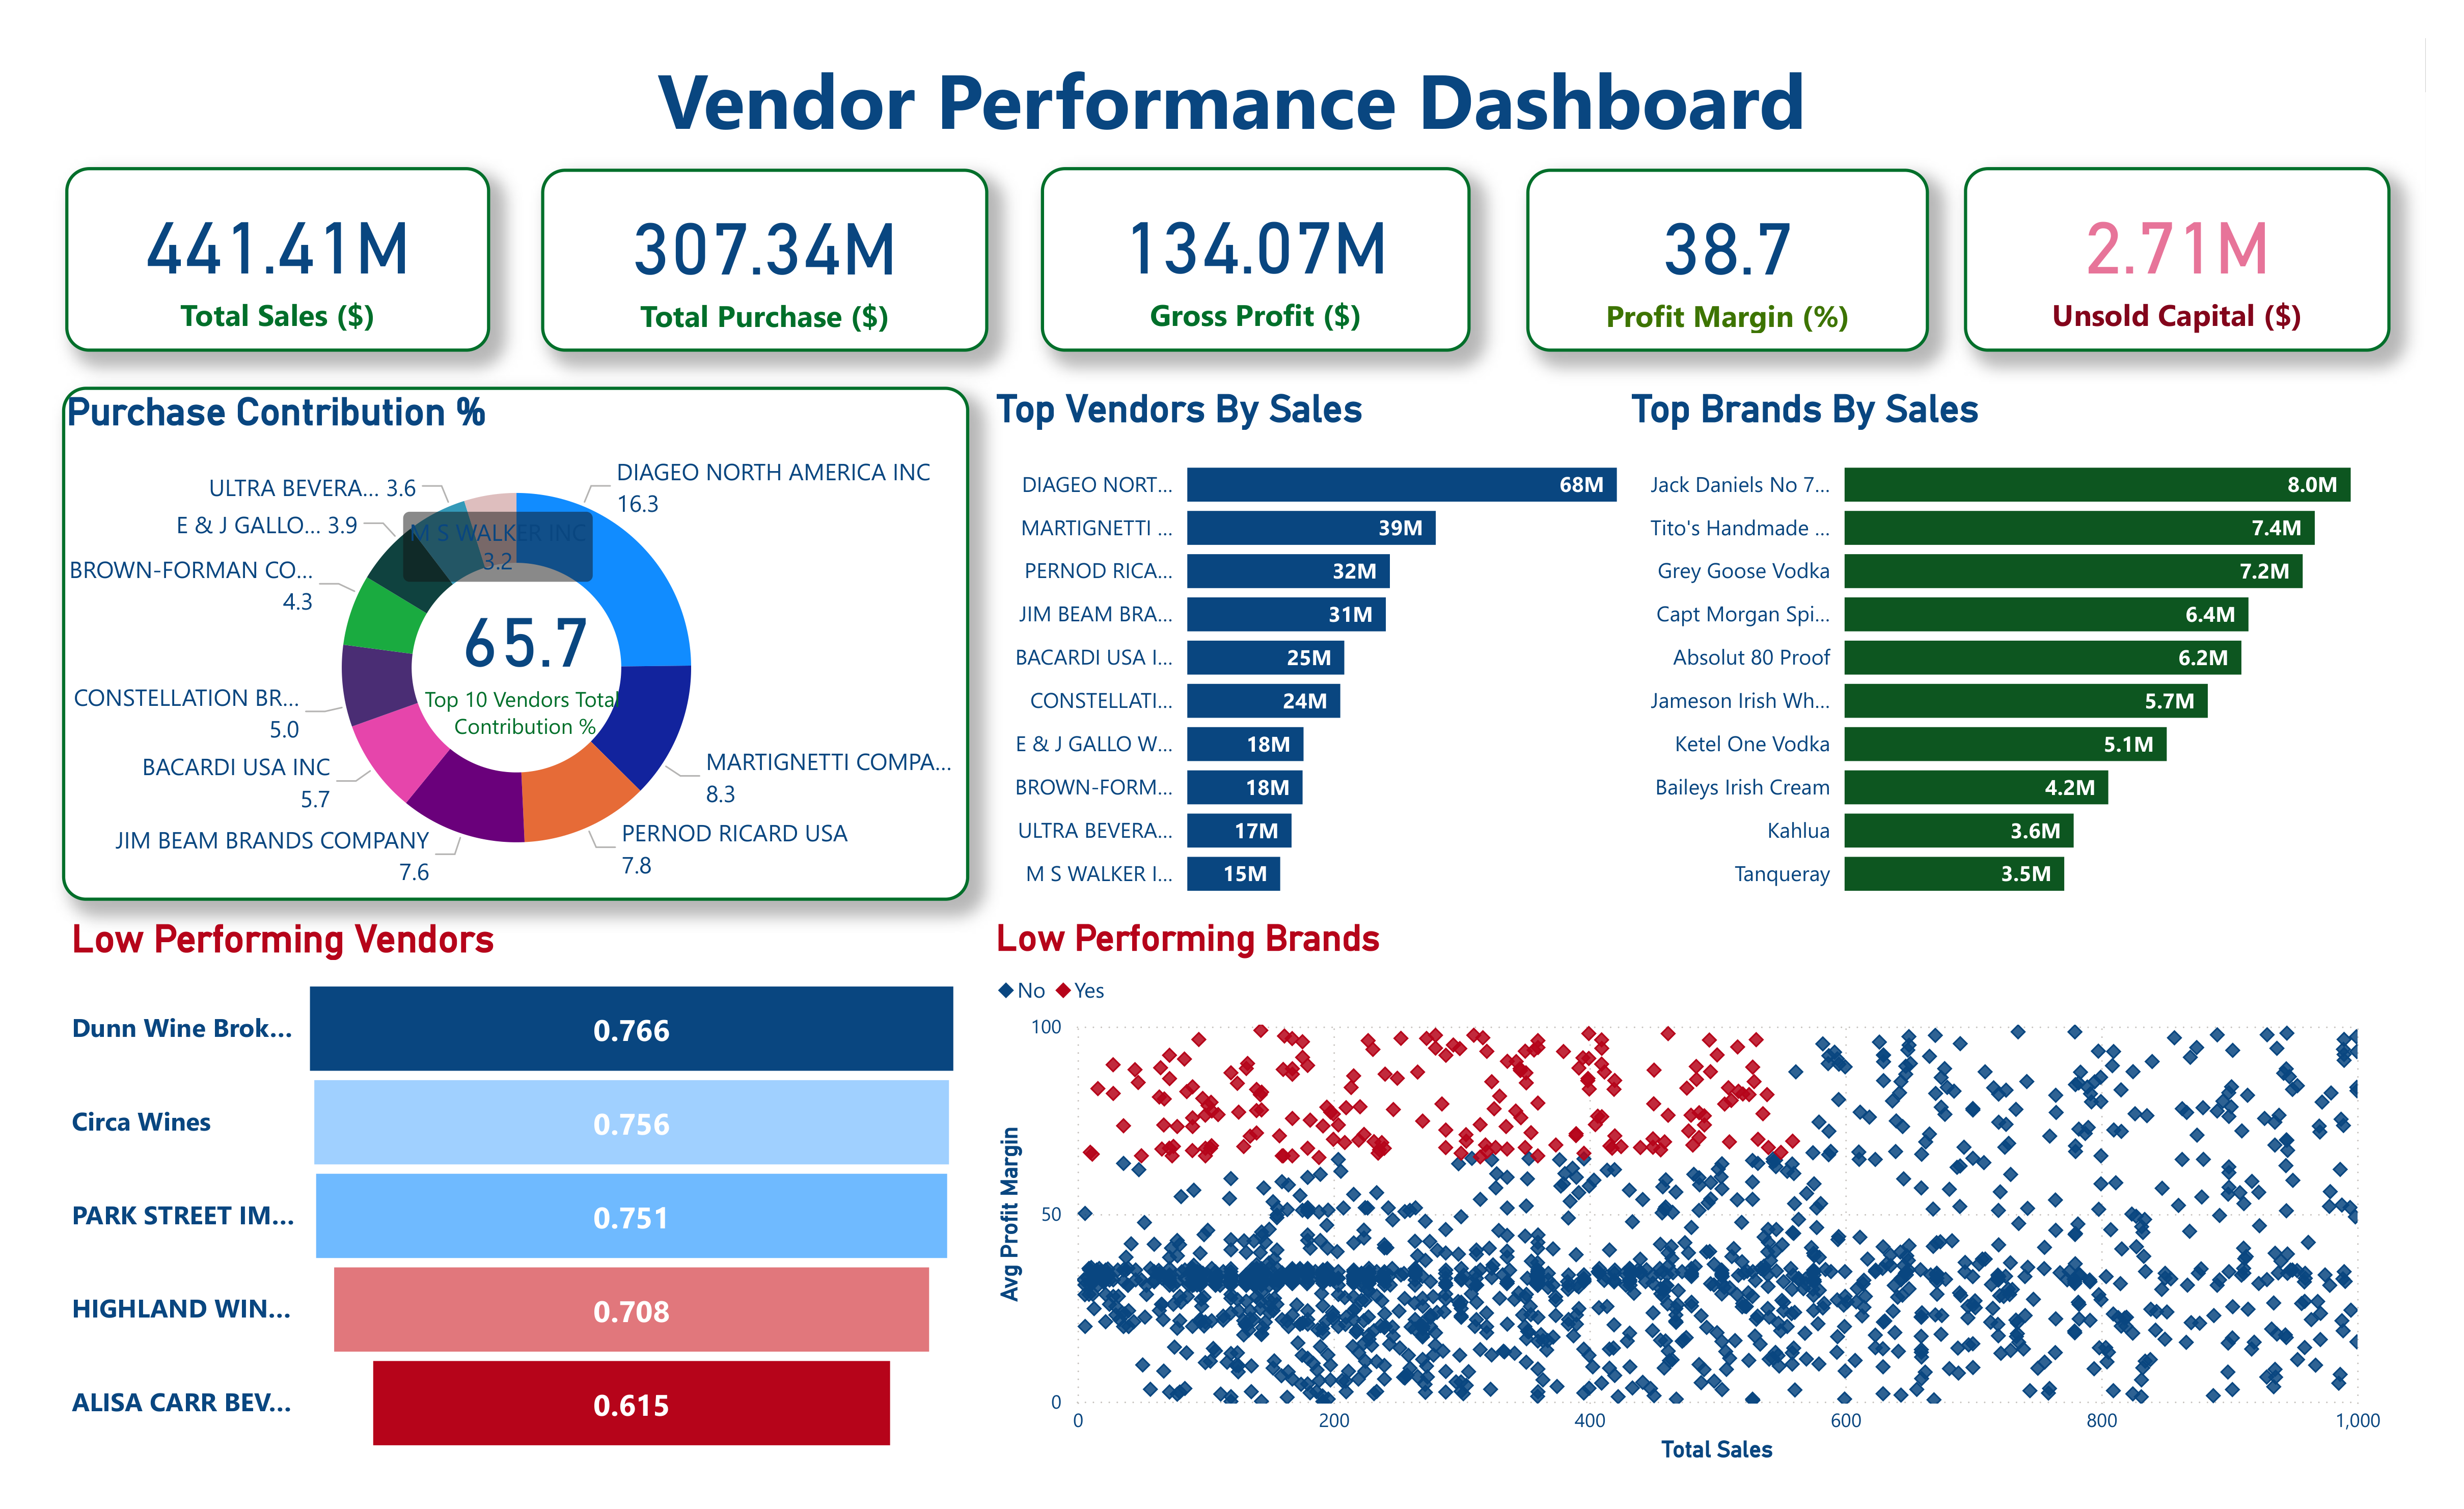

The dashboard page shown, as its layout file describes it:
{"tool":"powerbi","page":{"name":"Page 1","canvas":[1500,900],"ordinal":0},"visuals":[{"type":"card","fields":{"Values":["Sum(vendor_sales_summary.TotalPurchaseDollars)"]},"box":[315.8,82.4,280.9,114.6],"z":0},{"type":"card","fields":{"Values":["Sum(vendor_sales_summary.TotalSalesDollars)"]},"box":[16.8,81,266.9,116],"z":1000},{"type":"card","fields":{"Values":["Sum(vendor_sales_summary.GrossProfit)"]},"box":[630.2,81,269.7,116],"z":2000},{"type":"card","fields":{"Values":["Avg(vendor_sales_summary.ProfitMargin)"]},"box":[934.8,82.4,252.9,114.6],"z":3000},{"type":"card","fields":{"Values":["Sum(vendor_sales_summary.UnsoldCapital)"]},"box":[1210.1,81,268.3,116],"z":4000},{"type":"textbox","box":[0,0,1500,83],"z":5000},{"type":"donutChart","title":"Purchase Contribution % ","fields":{"Category":["PurchaseContribution.VendorName"],"Y":["Sum(PurchaseContribution.PurchaseContribution%)"]},"box":[14.5,219.4,571,322.6],"z":6000},{"type":"card","fields":{"Values":["Sum(PurchaseContribution.PurchaseContribution%)"]},"box":[211.8,266.7,188.2,233.3],"z":7000},{"type":"barChart","title":"Top Vendors By Sales","fields":{"Category":["vendor_sales_summary.VendorName"],"Y":["Sum(vendor_sales_summary.TotalSalesDollars)"]},"box":[597.3,219.2,447.9,332.9],"z":8000},{"type":"barChart","title":"Top Brands By Sales","fields":{"Category":["vendor_sales_summary.Description"],"Y":["Sum(vendor_sales_summary.TotalSalesDollars)"]},"box":[995.9,219.2,504.1,332.9],"z":9000},{"type":"funnel","title":"Low Performing Vendors","fields":{"Category":["LowTurnoverVendor.VendorName"],"Y":["Avg(LowTurnoverVendor.AvgStockTurnOver)"]},"box":[16.1,551.6,569.4,348.4],"z":10000},{"type":"scatterChart","title":"Low Performing Brands","fields":{"X":["Sum(BrandPerformance.TotalSales)"],"Y":["Sum(BrandPerformance.AvgProfitMargin)"],"Series":["BrandPerformance.TargetBrand"],"Category":["BrandPerformance.Description"]},"box":[596.8,551.6,880.6,348.4],"z":11000}]}

Visuals, with their boxes on the page's 1500x900 design canvas (x1, y1, x2, y2). These are canvas units, not pixel positions in the 2464x1509 screenshot, which may show the page scaled, cropped or inside an application window:
card - Sum(vendor_sales_summary.TotalPurchaseDollars): <region>316, 82, 597, 197</region>
card - Sum(vendor_sales_summary.TotalSalesDollars): <region>17, 81, 284, 197</region>
card - Sum(vendor_sales_summary.GrossProfit): <region>630, 81, 900, 197</region>
card - Avg(vendor_sales_summary.ProfitMargin): <region>935, 82, 1188, 197</region>
card - Sum(vendor_sales_summary.UnsoldCapital): <region>1210, 81, 1478, 197</region>
textbox: <region>0, 0, 1500, 83</region>
"Purchase Contribution % " donutChart: <region>14, 219, 586, 542</region>
card - Sum(PurchaseContribution.PurchaseContribution%): <region>212, 267, 400, 500</region>
"Top Vendors By Sales" barChart: <region>597, 219, 1045, 552</region>
"Top Brands By Sales" barChart: <region>996, 219, 1500, 552</region>
"Low Performing Vendors" funnel: <region>16, 552, 586, 900</region>
"Low Performing Brands" scatterChart: <region>597, 552, 1477, 900</region>
